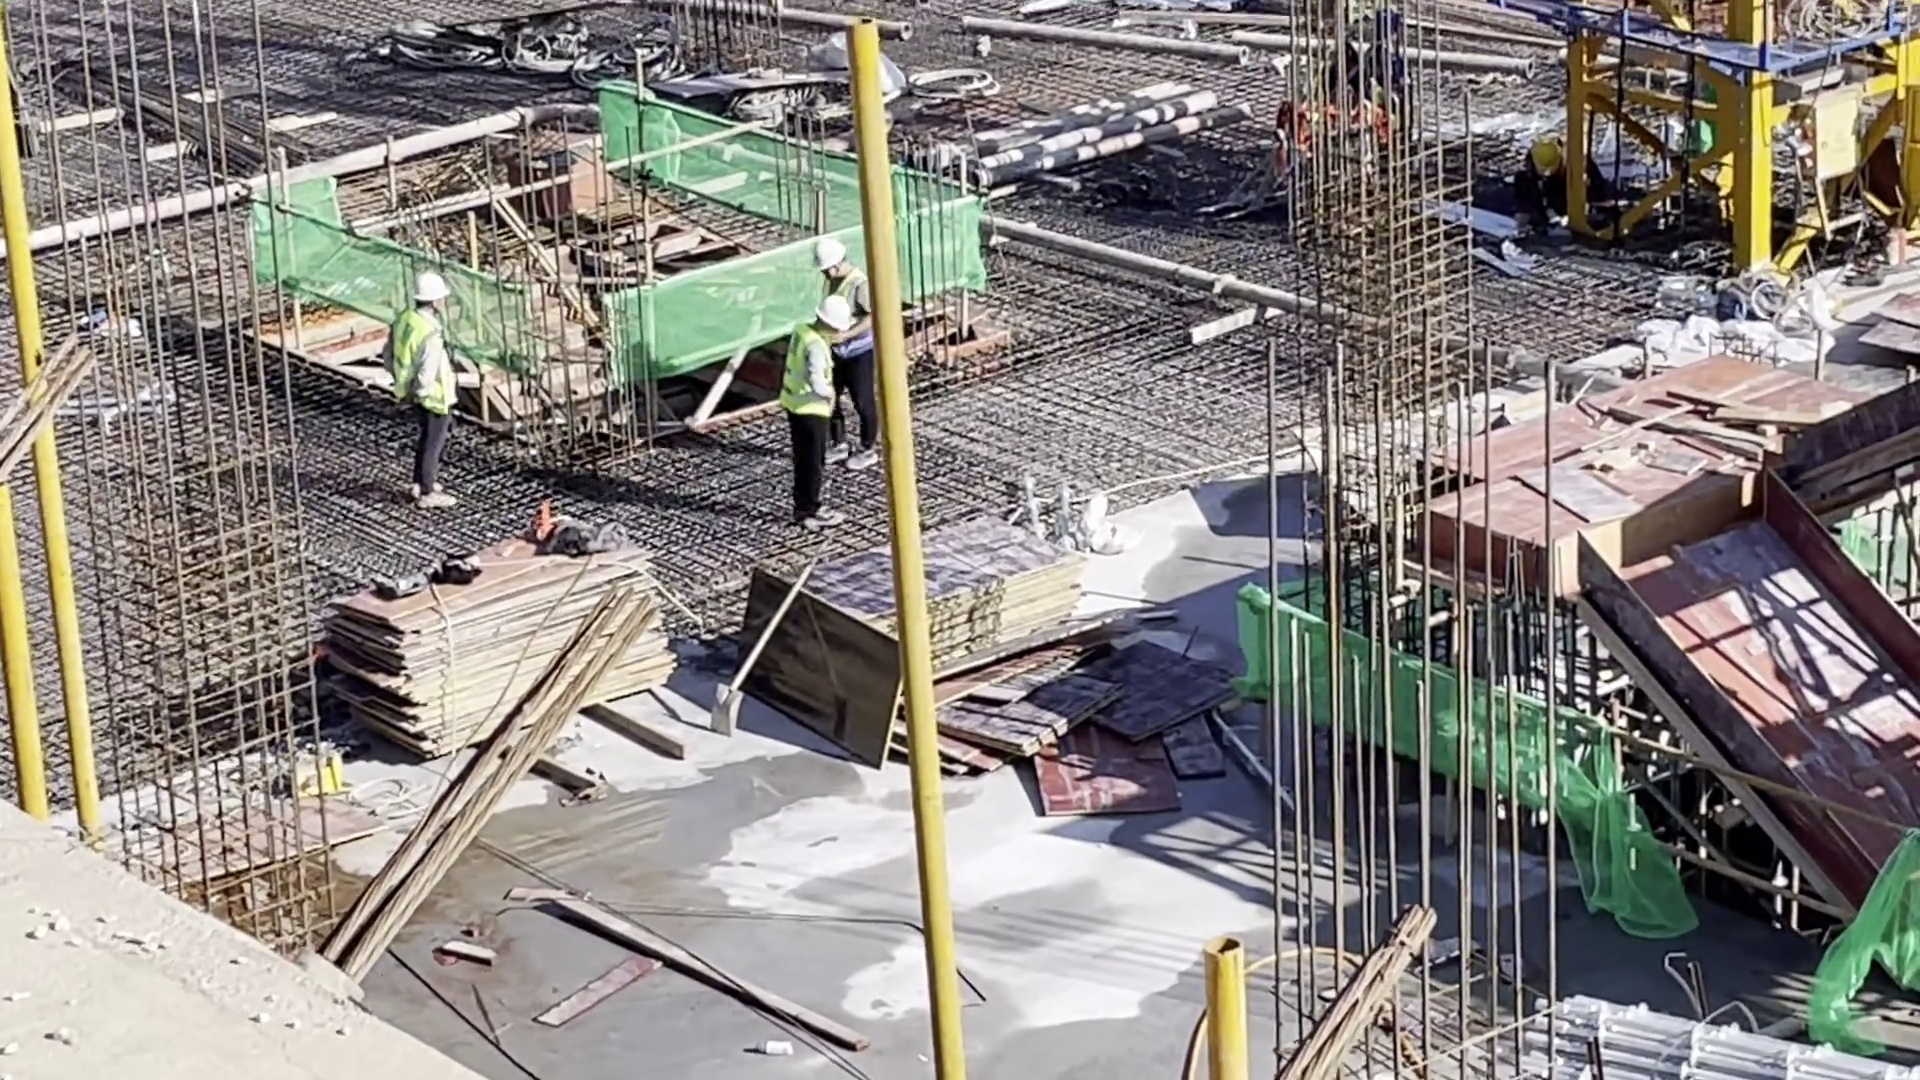board: (322, 516, 677, 756), (787, 516, 1085, 695)
helmet: (414, 272, 457, 305), (817, 298, 850, 331), (811, 243, 850, 268), (1531, 146, 1563, 175)
person: (773, 293, 852, 542), (808, 243, 885, 476), (392, 269, 460, 515), (1512, 131, 1593, 220)
scaffold: (1531, 982, 1920, 1075)
vest: (394, 308, 454, 420), (783, 320, 837, 412)
